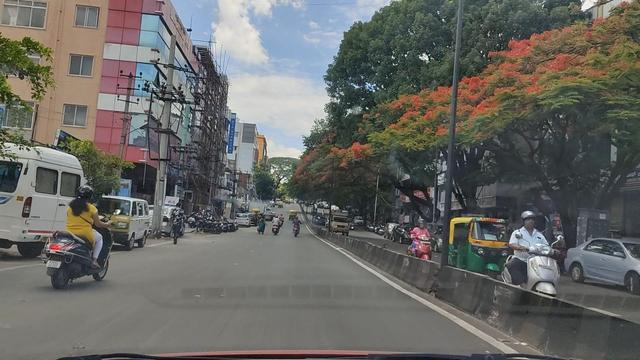LMV: (63, 184, 117, 293)
